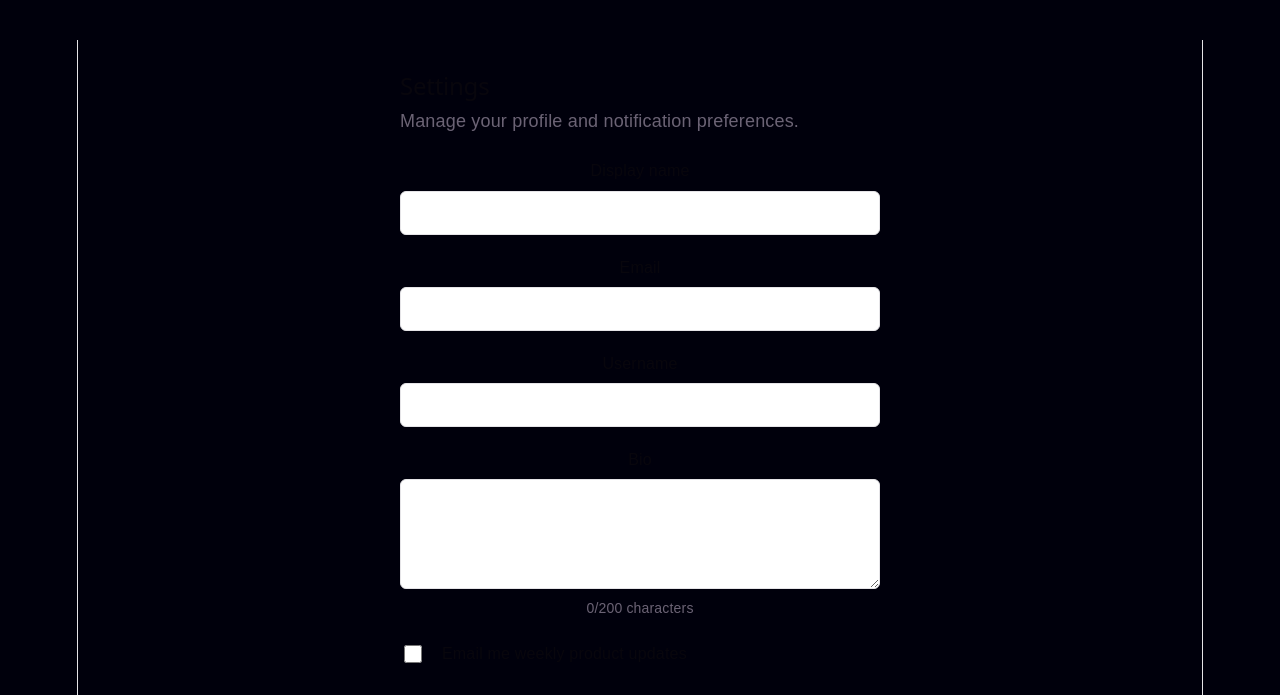
SettingsForm › saves valid settings to localStorage and shows a success message
Type "Jane Doe" into the field labelled "Display name" at [640, 212], box [400,190,880,234]
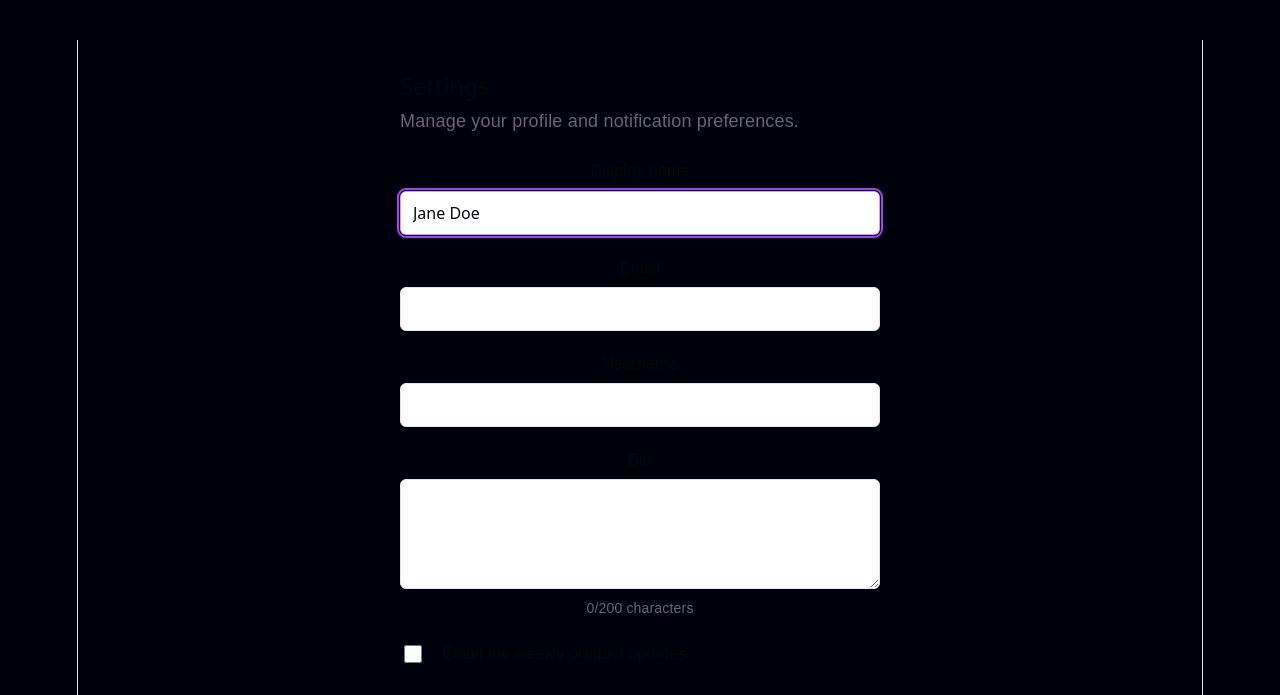
Type "jane@example.com" into the field labelled "Email" at [640, 309], box [400,287,880,331]
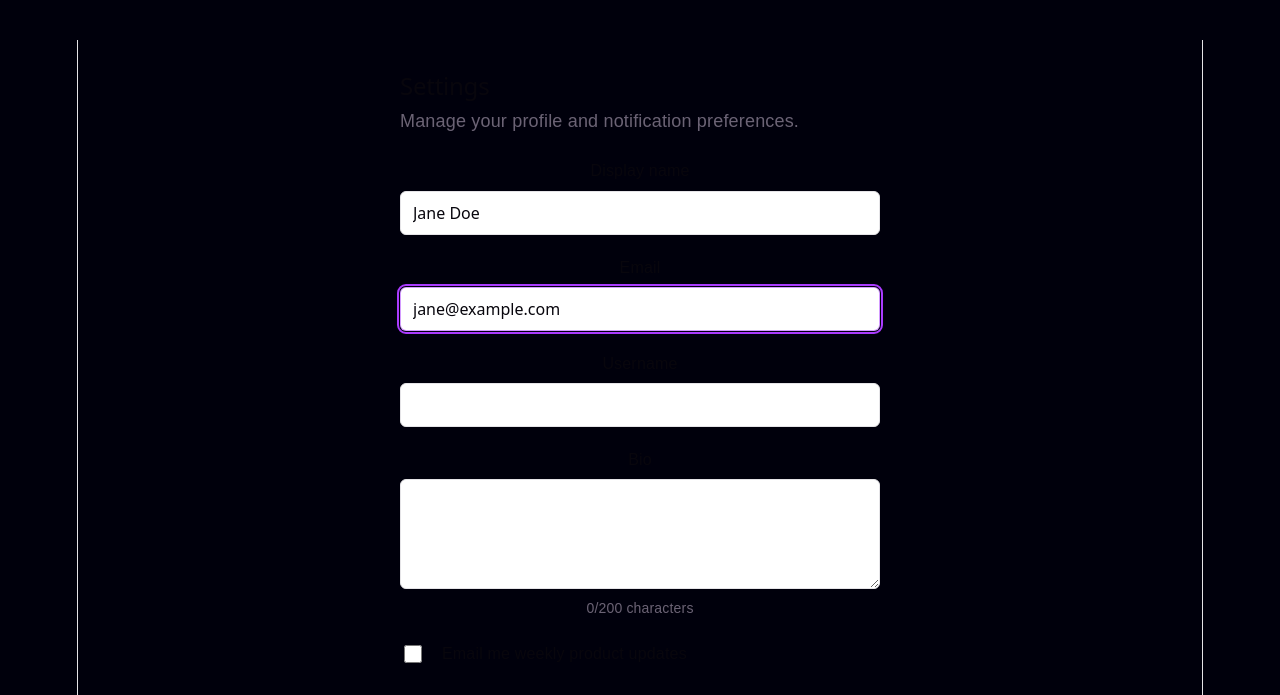
Type "jane_doe" into the field labelled "Username" at [640, 405], box [400,383,880,427]
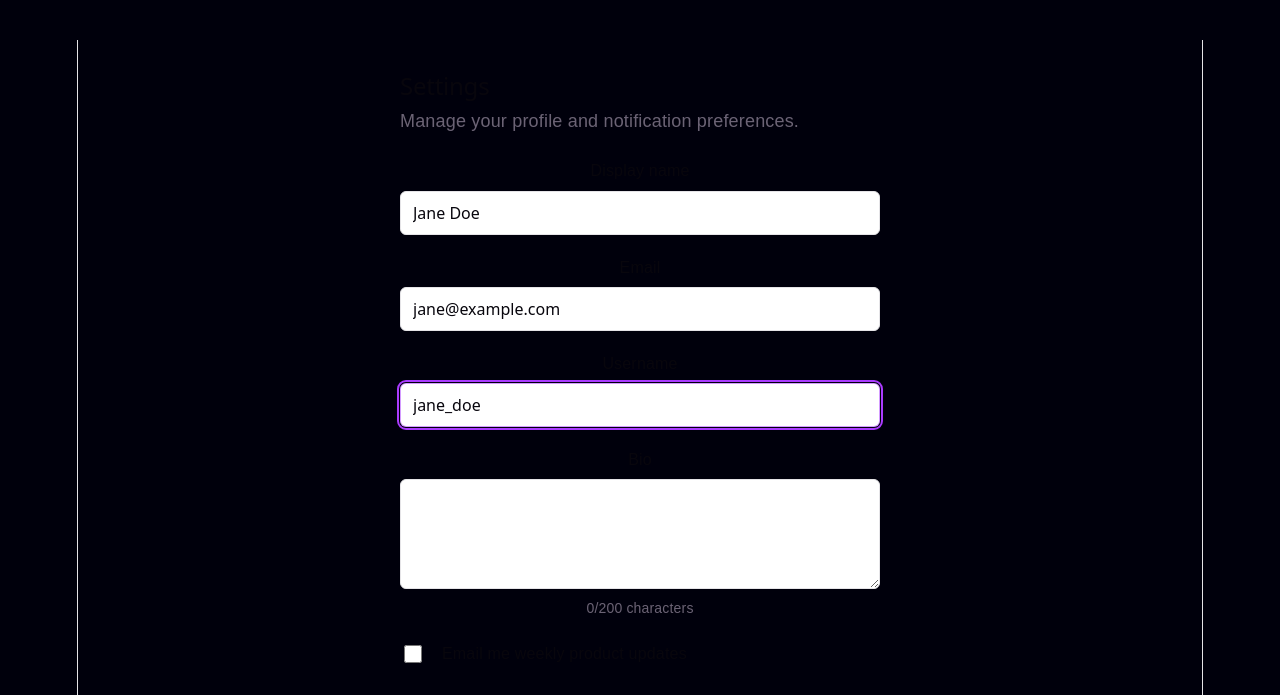
Click the checkbox labelled "Email me weekly product updates" at [413, 654], box [404,645,422,663]
(page scrolled)
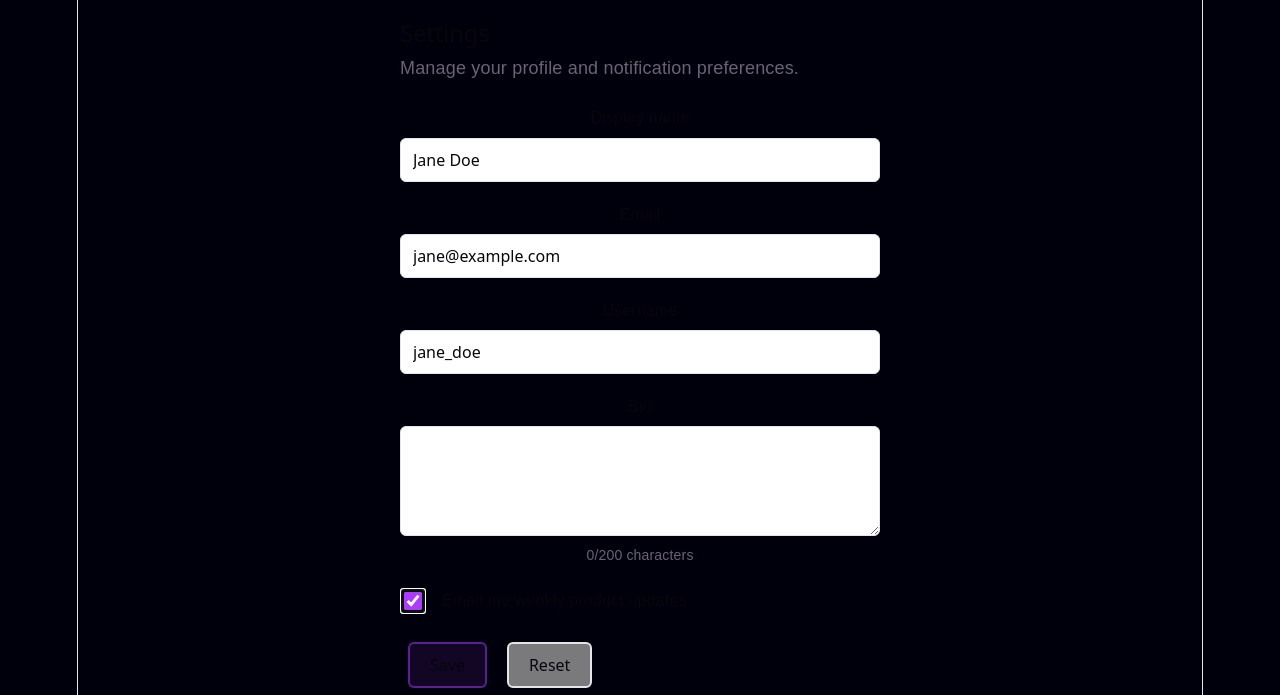
Click the button "Save" at [447, 665], box [408,642,487,688]
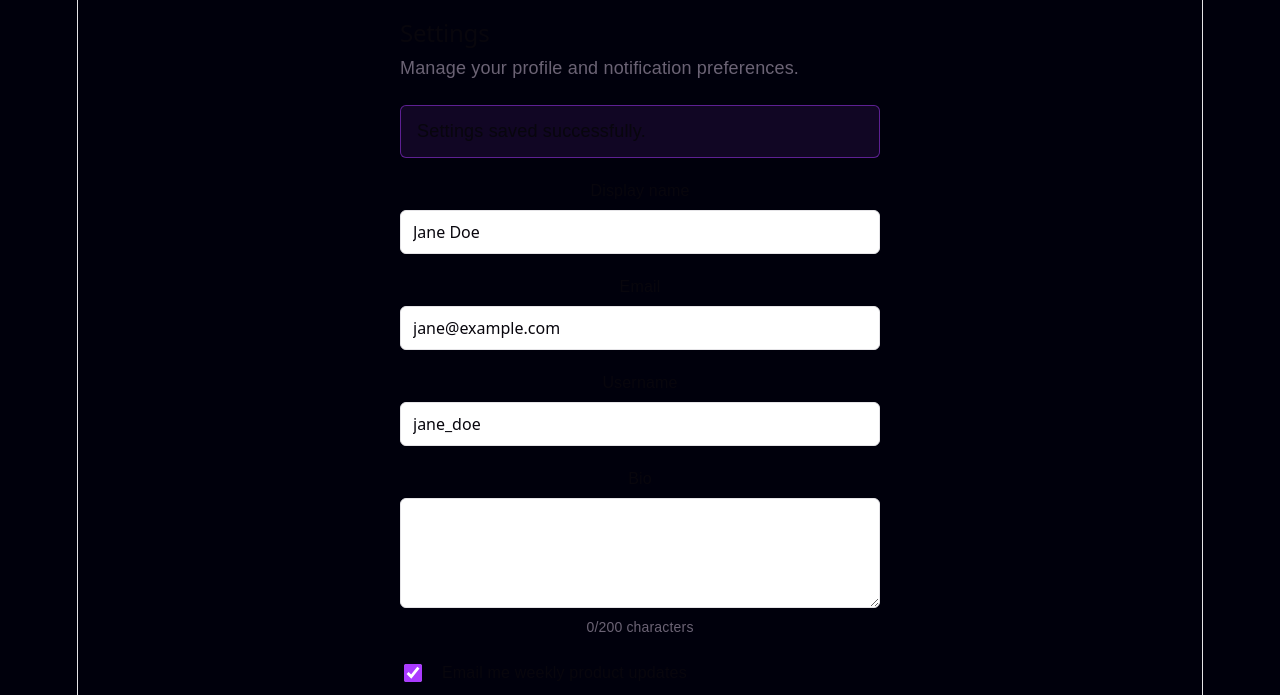
Now the text "Settings saved successfully." is shown, box [400,105,880,158]
